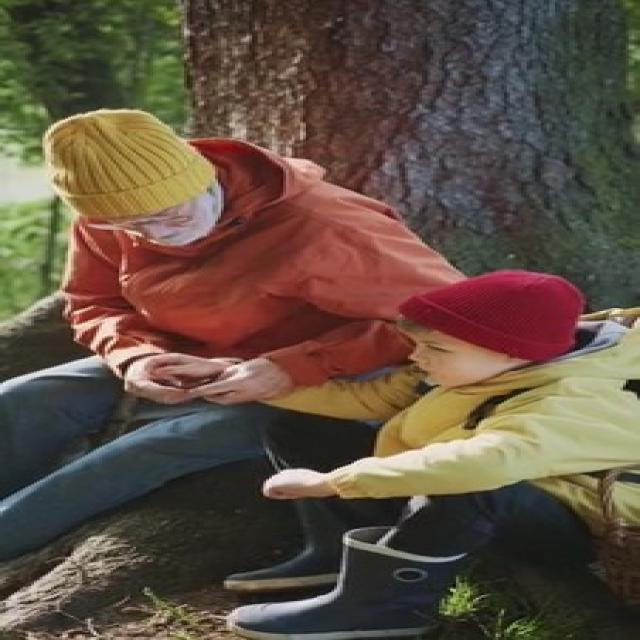Jacket_Wearer: (70, 197, 502, 363)
Person: (60, 101, 522, 482)
